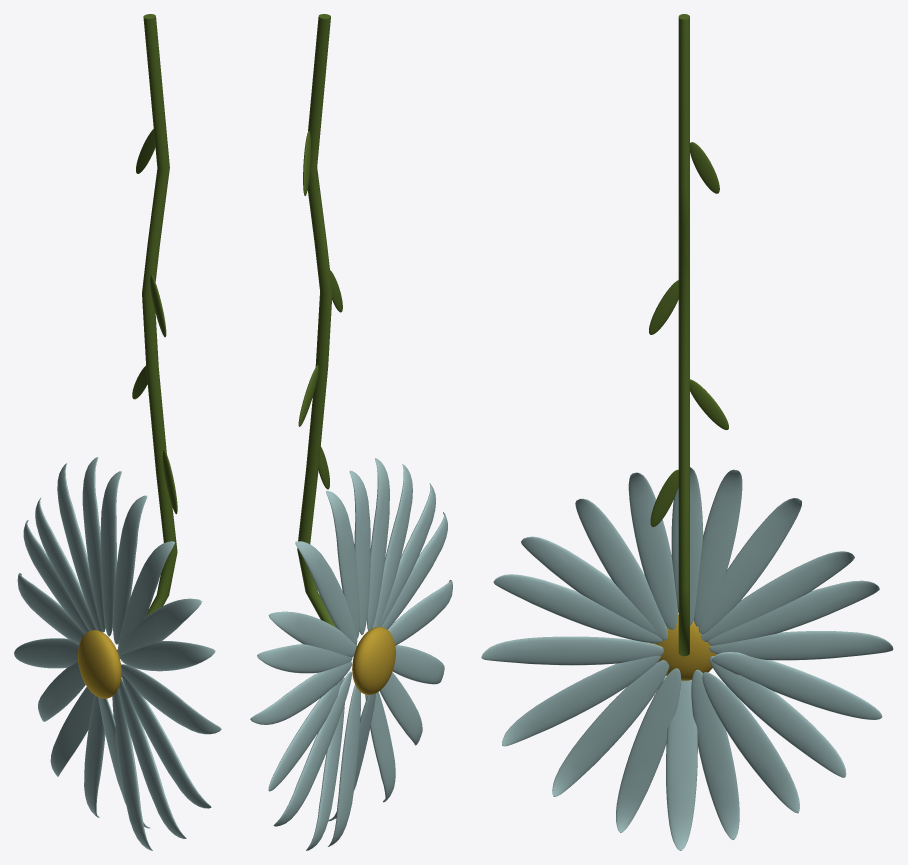
Rendered from Flower3.fbx.
3 views of the same model, side by side, from view 1: azimuth 30°, elevation 25°; view 2: azimuth 150°, elevation 25°; view 3: azimuth 270°, elevation 25° (orthographic). The views are drawn at different scales.
Parts seen in each view (by area): view 1: pSphere25; view 2: pSphere25; view 3: pSphere25.
Boxes of the visible parts, bbox=[...] form: pSphere25: bbox=[14, 14, 221, 850]; pSphere25: bbox=[250, 14, 452, 850]; pSphere25: bbox=[481, 14, 893, 850].
Size of the model in its own units: 5.55 by 47.59 by 21.25.
